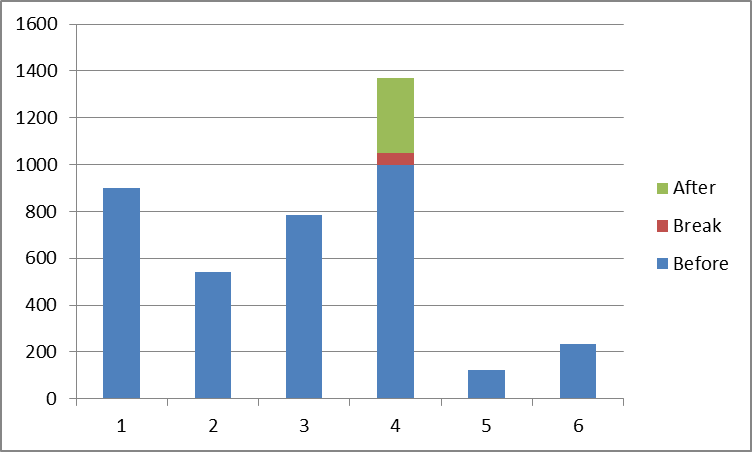OK_NoIssue: (8, 13, 732, 441)
